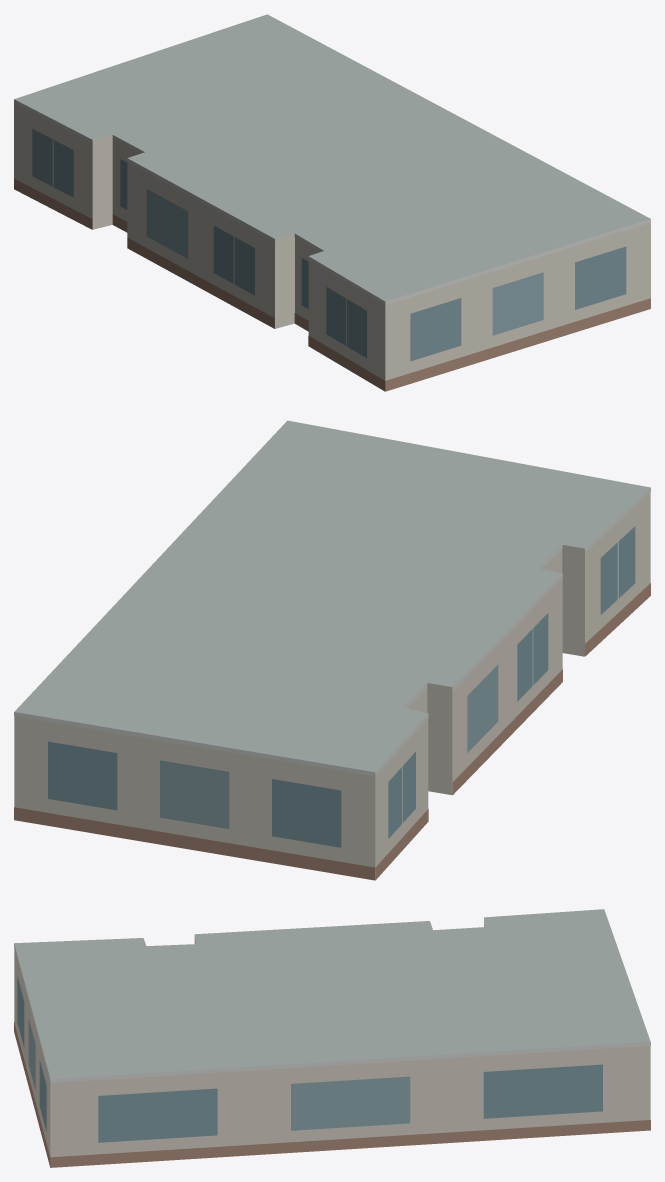
File: survey-upis-32613127.glb
3 views of the same model, one above another, from view 1: azimuth 30°, elevation 25°; view 2: azimuth 150°, elevation 25°; view 3: azimuth 270°, elevation 25° (orthographic). The views are drawn at different scales.
Parts seen in each view (by area): view 1: survey-upis-32613127.tmp; view 2: survey-upis-32613127.tmp; view 3: survey-upis-32613127.tmp.
Boxes of the visible parts, box(x1,y1,x2,y2) form: survey-upis-32613127.tmp: box(14, 14, 650, 391); survey-upis-32613127.tmp: box(14, 420, 650, 880); survey-upis-32613127.tmp: box(14, 909, 650, 1167).
Size of the model in its own units: 12.6 by 3.05 by 19.9.
